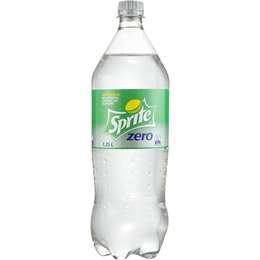sprite: (105, 105, 150, 134)
